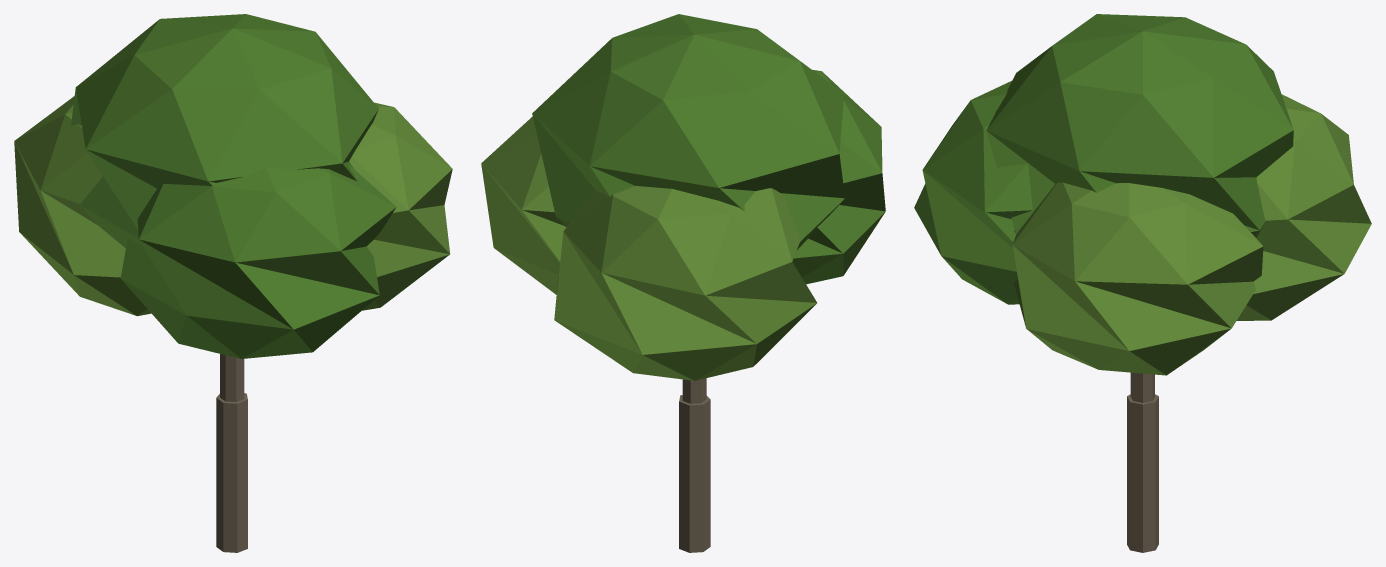
Rendered from tree_plane.glb.
The picture shows the model from 3 angles, left to right: view 1: azimuth 30°, elevation 25°; view 2: azimuth 150°, elevation 25°; view 3: azimuth 270°, elevation 25°; orthographic projection.
Parts seen in each view (by area): view 1: tree_plane; view 2: tree_plane; view 3: tree_plane.
Boxes of the visible parts, x1,y1,x2,y2 form: tree_plane: (14,14,452,552); tree_plane: (481,14,885,552); tree_plane: (914,14,1371,552).
Size of the model in its own units: 8.4 by 11.8 by 9.51.
